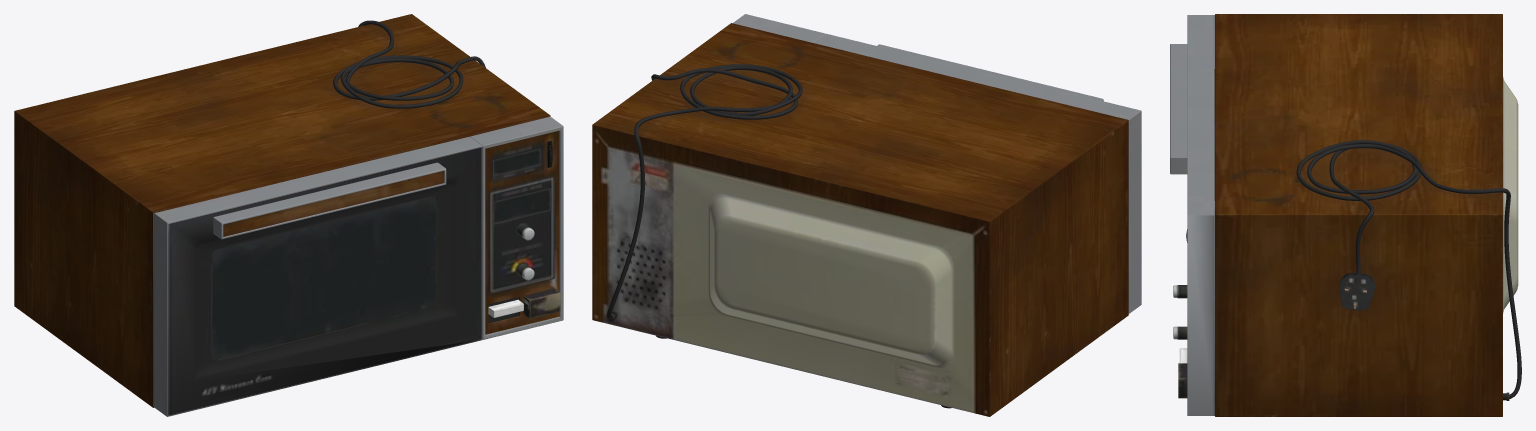
Rendered from vintage_microwave.glb.
3 renders of one model, left to right at view 1: azimuth 30°, elevation 25°; view 2: azimuth 150°, elevation 25°; view 3: azimuth 270°, elevation 25°, orthographic. The views are drawn at different scales.
Visible parts, largest first — view 1: vintage_microwave; view 2: vintage_microwave; view 3: vintage_microwave.
Part boxes in pixels (x1,y1,x2,y2): vintage_microwave: [14, 14, 563, 416]; vintage_microwave: [592, 14, 1141, 416]; vintage_microwave: [1170, 14, 1521, 416].
Size of the model in its own units: 1.07 by 0.5258 by 0.7456.
Materials: 2 (2 with a texture image).
